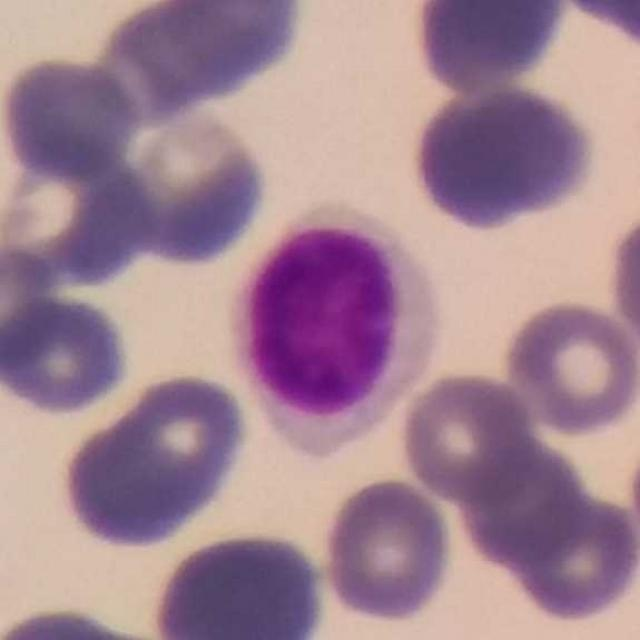Lymphocyte: (231, 197, 443, 458)
RBC: (53, 367, 255, 553), (82, 93, 274, 270), (404, 79, 602, 235), (0, 131, 156, 293), (148, 524, 333, 640), (318, 474, 456, 626), (125, 0, 311, 111), (454, 435, 596, 580), (395, 366, 540, 508), (498, 295, 640, 439), (501, 485, 640, 627), (0, 52, 142, 185), (0, 290, 135, 418), (407, 0, 572, 97), (0, 234, 69, 380), (1, 600, 186, 640), (603, 202, 640, 361), (625, 421, 640, 575)
